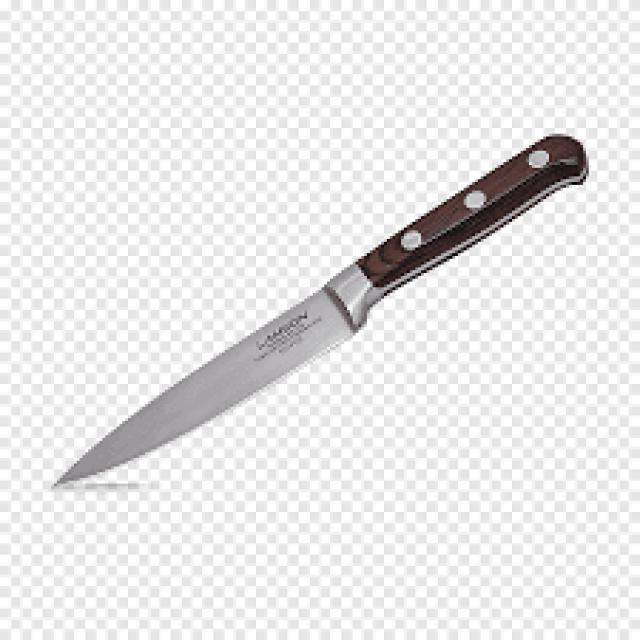Knife: (54, 134, 583, 486)
